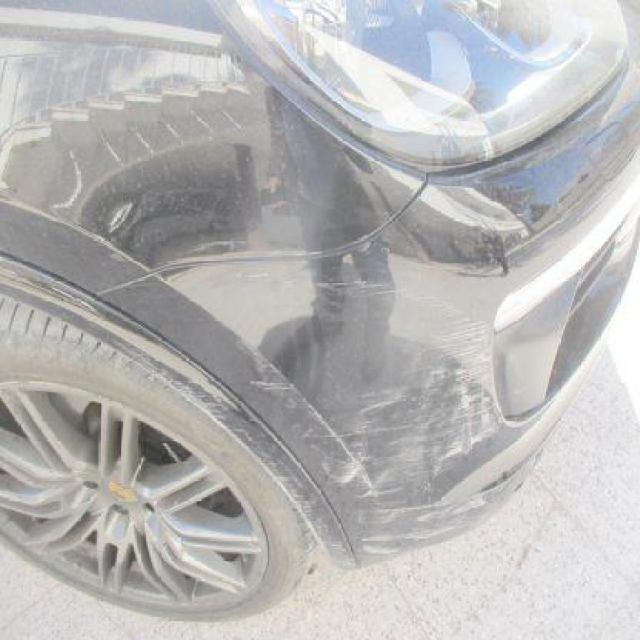car damage: (106, 194, 408, 309)
